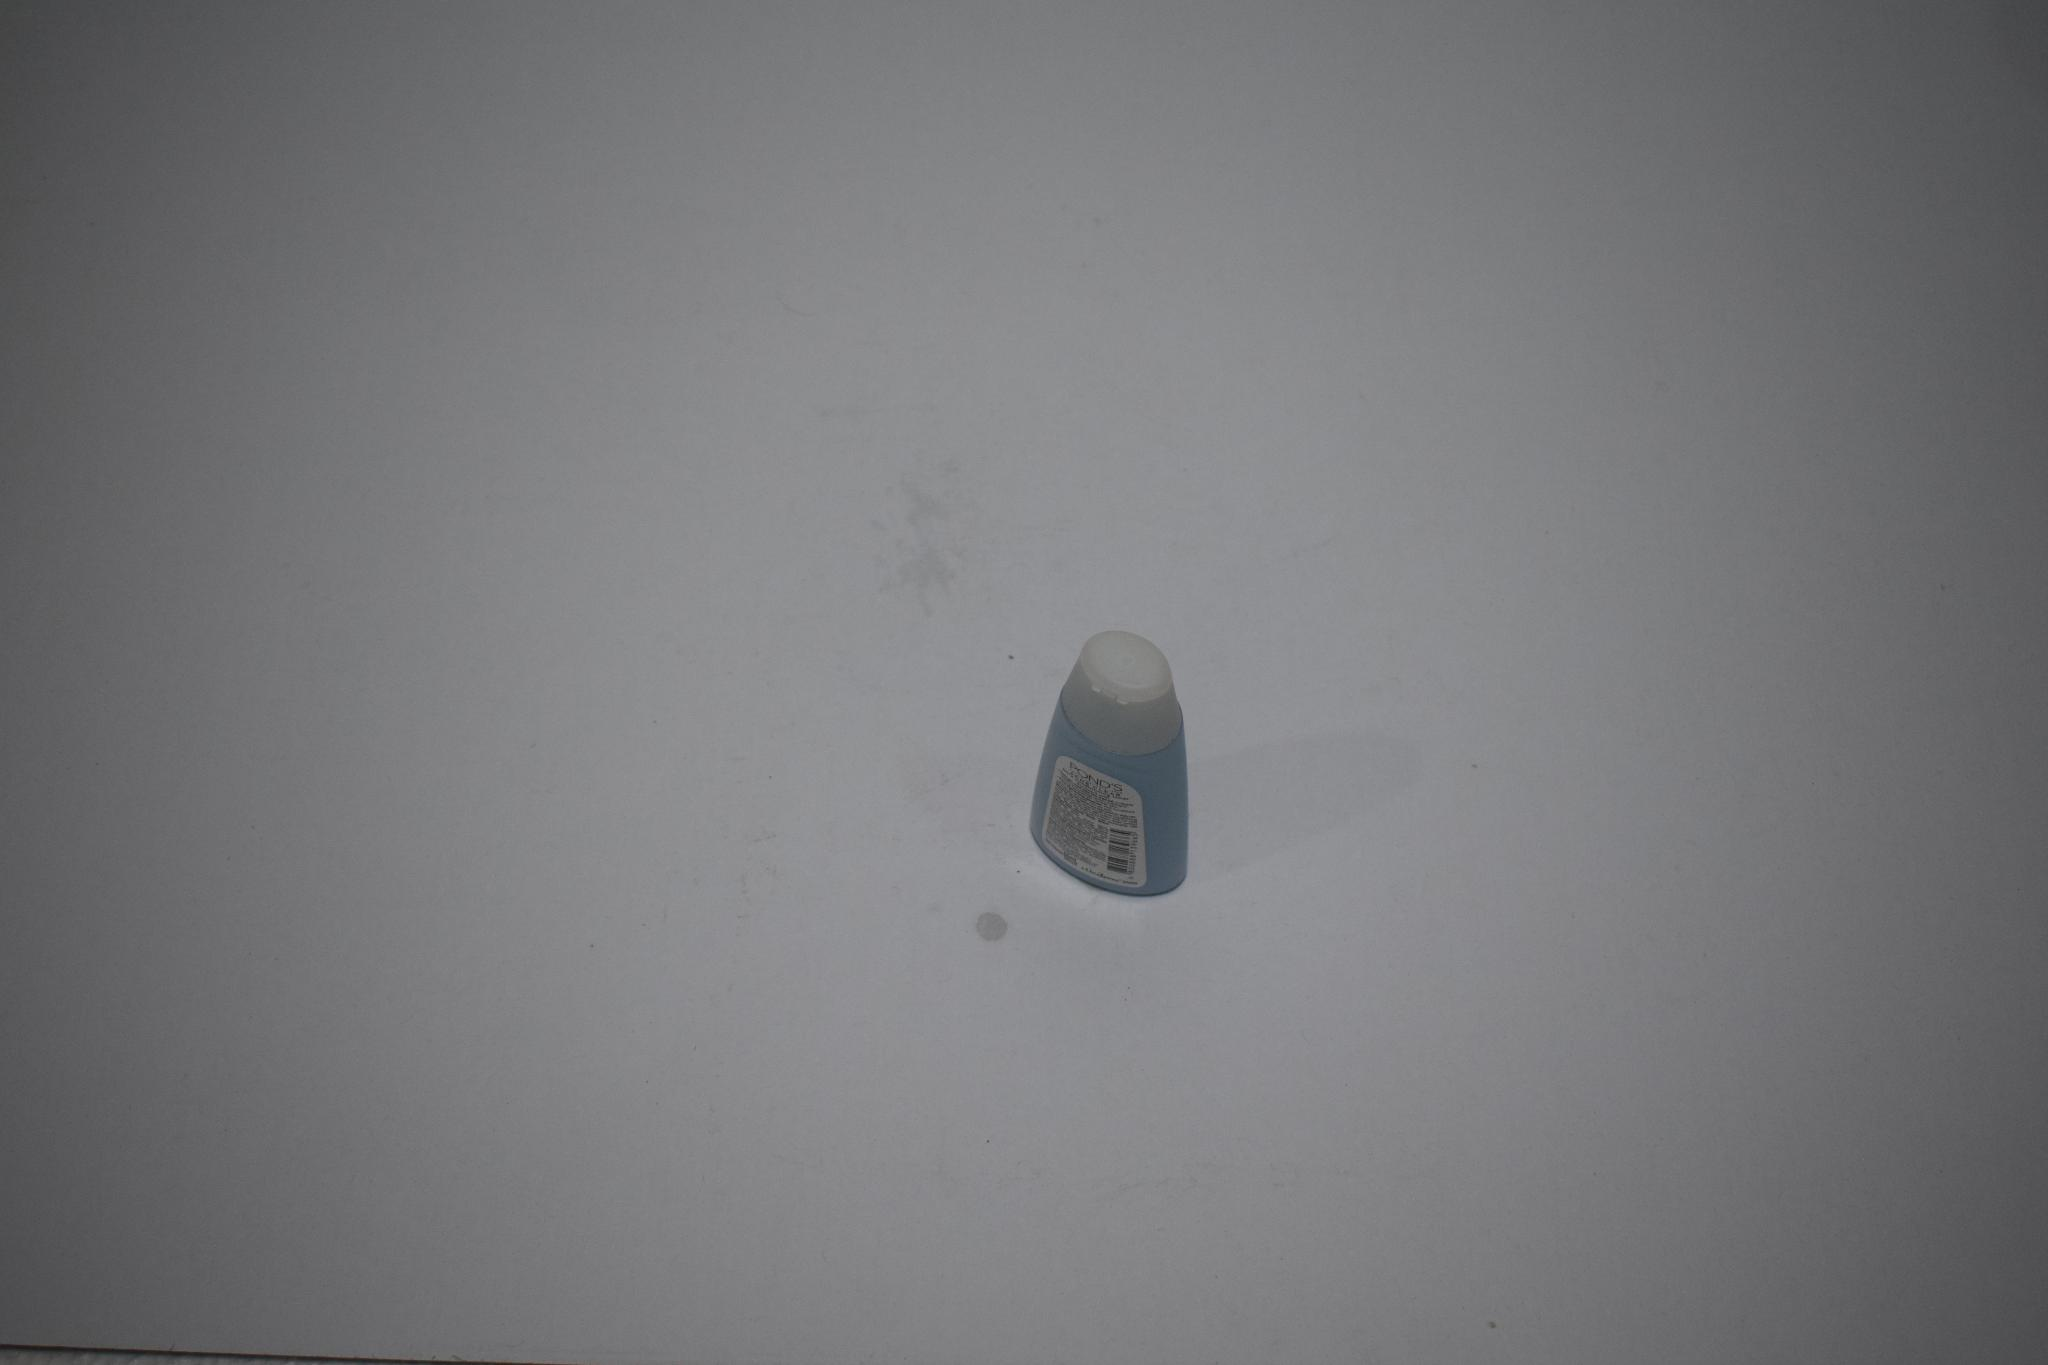bottle: (1036, 626, 1200, 914)
